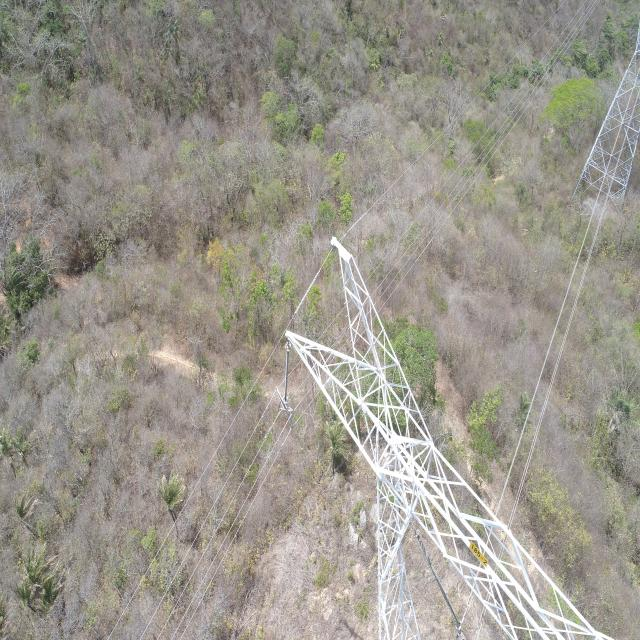杆塔: (287, 233, 613, 640)
正常电缆: (105, 245, 335, 640), (374, 1, 604, 312), (367, 0, 587, 282), (344, 1, 565, 237), (495, 180, 606, 505), (138, 385, 278, 639), (508, 194, 613, 522), (156, 411, 282, 639), (171, 429, 284, 639), (180, 431, 290, 639)
正常绝缘子: (281, 330, 292, 430)
